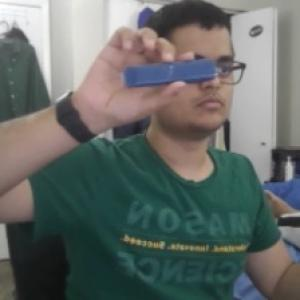Diamond-E-Ciggirate: (120, 57, 221, 90)
